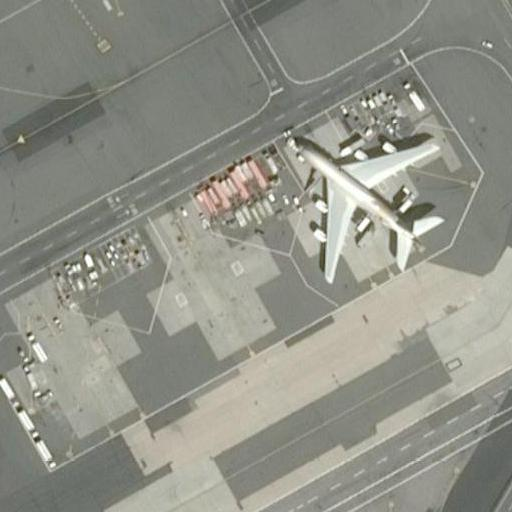Aircraft: (288, 124, 445, 282)
